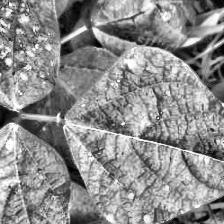Bean Rust: (65, 47, 224, 224), (0, 120, 72, 224), (0, 0, 60, 107), (89, 0, 199, 46)
